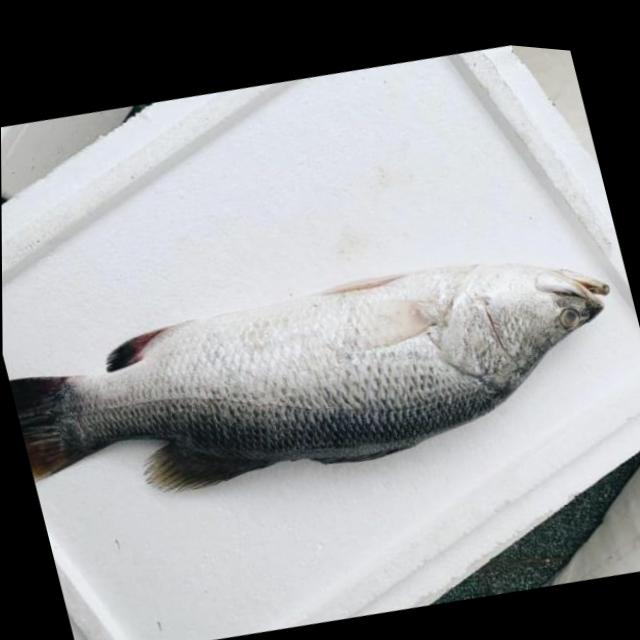Seabass: (1, 184, 640, 566)
